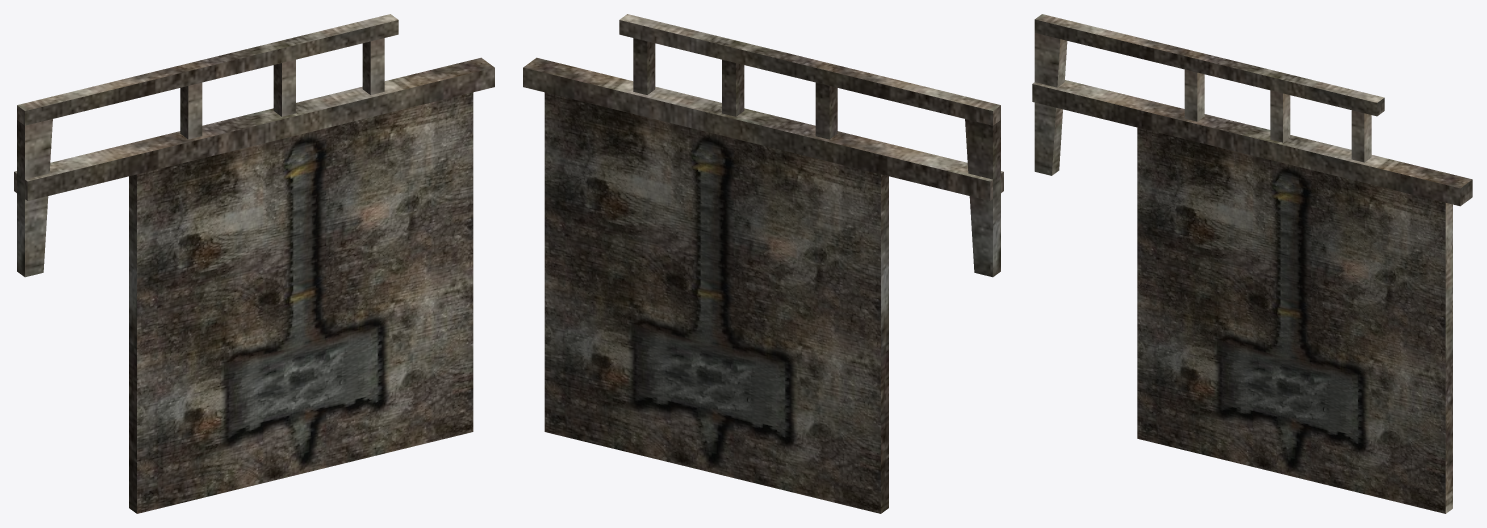
The model's file is signs_combat1.glb.
3 renders of one model, left to right at view 1: azimuth 30°, elevation 25°; view 2: azimuth 150°, elevation 25°; view 3: azimuth 330°, elevation 25°, orthographic. The views are drawn at different scales.
Visible parts, largest first — view 1: combat1; view 2: combat1; view 3: combat1.
Part boxes in pixels (x1,y1,x2,y2): combat1: [14, 14, 494, 513]; combat1: [523, 14, 1003, 513]; combat1: [1032, 14, 1472, 513].
Size of the model in its own units: 3.12 by 2.75 by 0.1562.
Materials: 2 (2 with a texture image).
